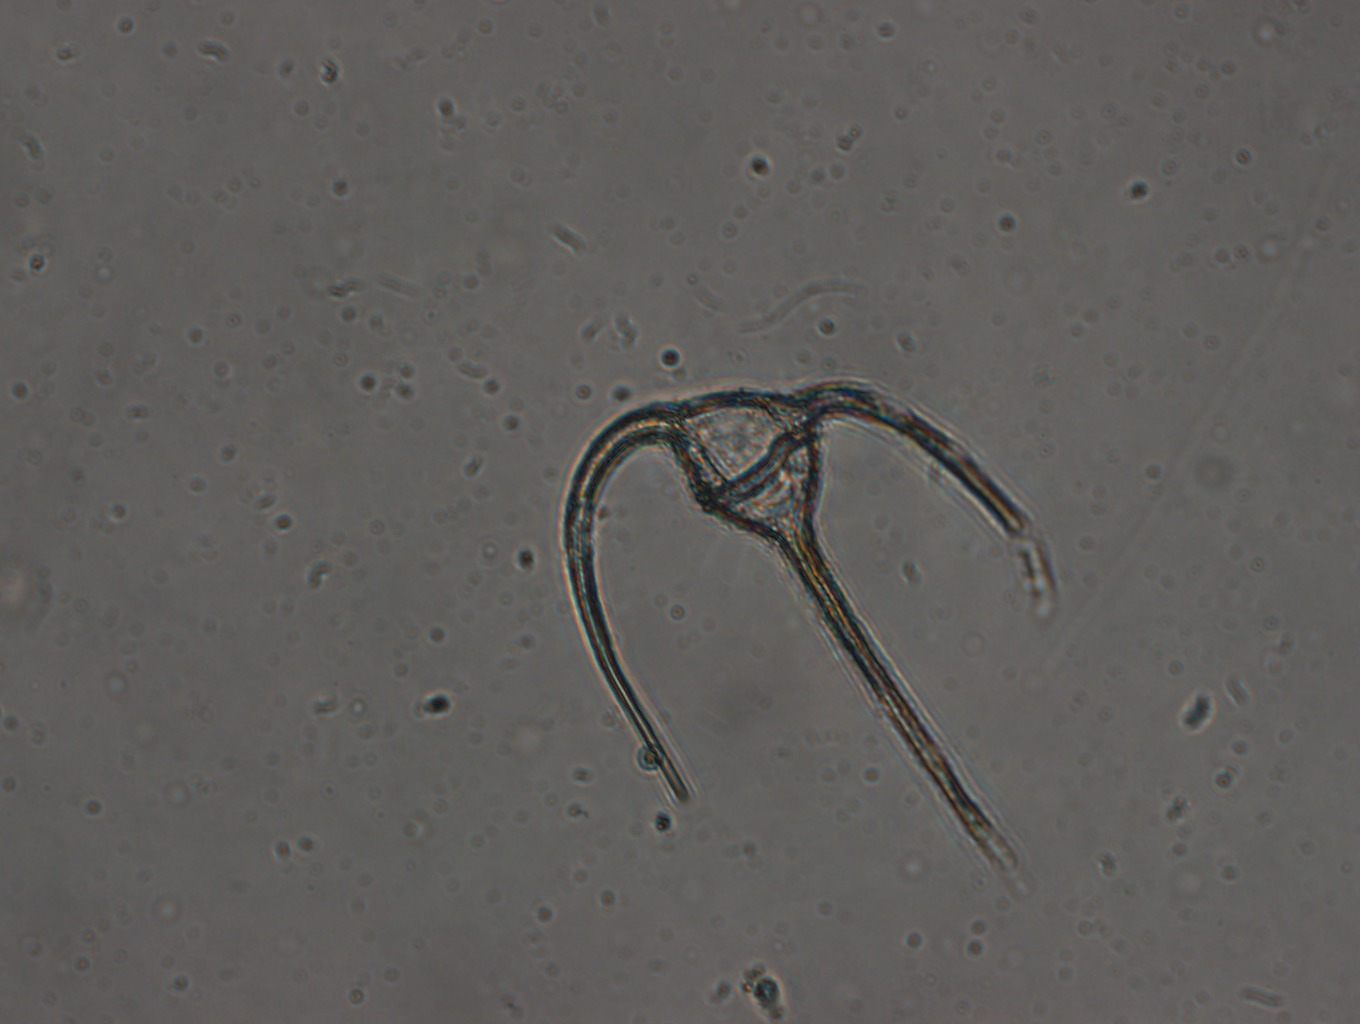ceratium trichoceros: (531, 374, 1068, 895)
